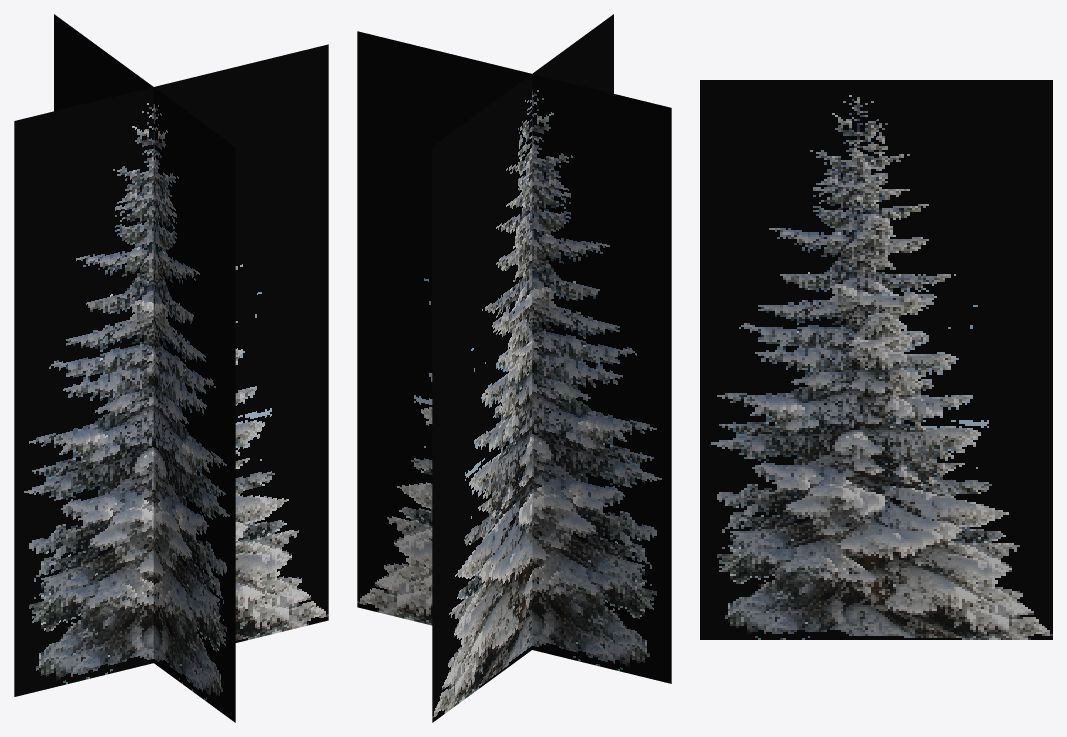
The model's file is pine_tree_snow.glb.
3 renders of one model, left to right at view 1: azimuth 30°, elevation 25°; view 2: azimuth 150°, elevation 25°; view 3: azimuth 270°, elevation 25°, orthographic. The views are drawn at different scales.
Parts seen in each view (by area): view 1: PineTreeSnow; view 2: PineTreeSnow; view 3: PineTreeSnow.
Boxes of the visible parts, x1=… form: PineTreeSnow: x1=14, y1=14, x2=328, y2=722; PineTreeSnow: x1=357, y1=14, x2=671, y2=722; PineTreeSnow: x1=700, y1=80, x2=1052, y2=639.
Bounding box in the file's own units: 2.83 × 4.96 × 2.83.
Materials: 1 (1 with a texture image).
